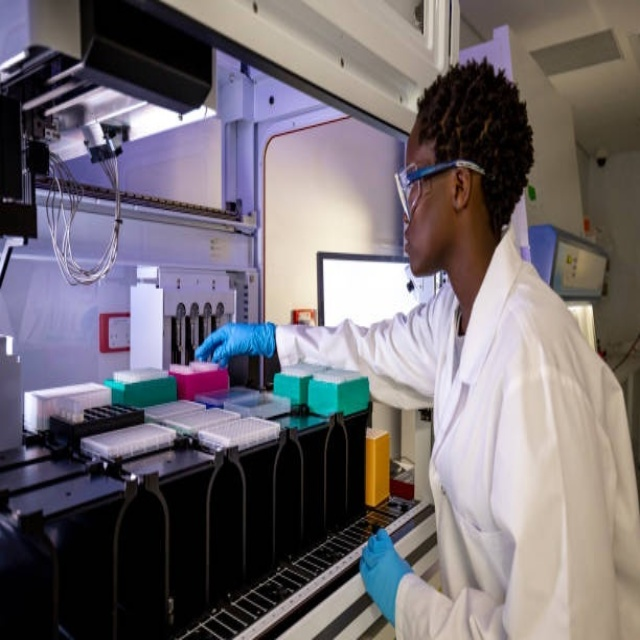Gafas: (395, 159, 486, 222)
Guantes: (361, 529, 414, 626), (195, 321, 277, 369)
Sin_mascara: (402, 218, 435, 271)
